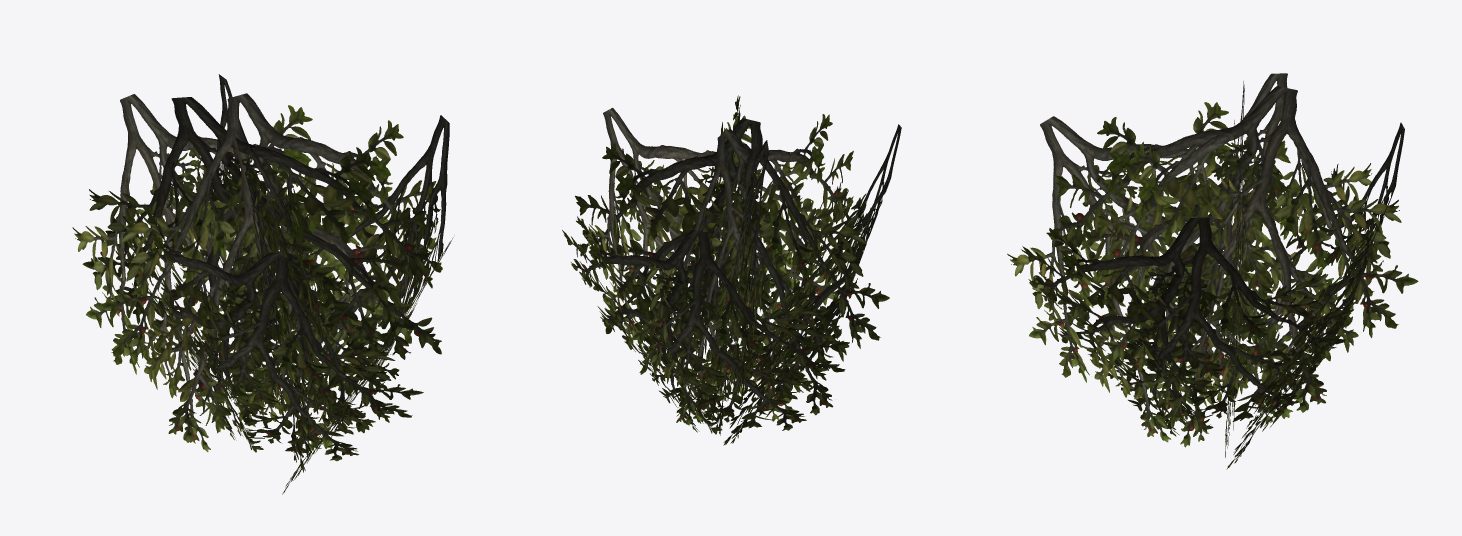
File: bush2.glb
3 views of the same model, side by side, from view 1: azimuth 30°, elevation 25°; view 2: azimuth 150°, elevation 25°; view 3: azimuth 270°, elevation 25° (orthographic). The views are drawn at different scales.
Visible parts, largest first — view 1: Bush2; view 2: Bush2; view 3: Bush2.
Part boxes in pixels (x1,y1,x2,y2): Bush2: [72, 74, 453, 494]; Bush2: [562, 95, 901, 445]; Bush2: [1007, 73, 1418, 469].
Size of the model in its own units: 2.06 by 2.41 by 2.66.
1 material, 1 textured.
